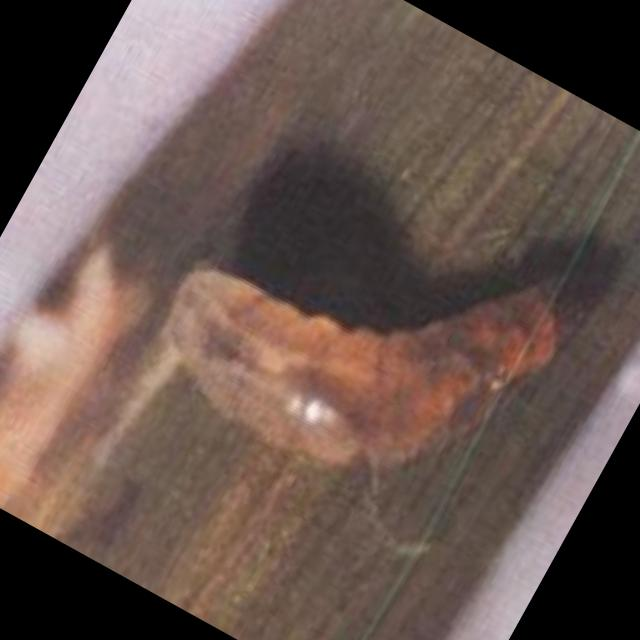whorl-maggot: (161, 265, 562, 469)
